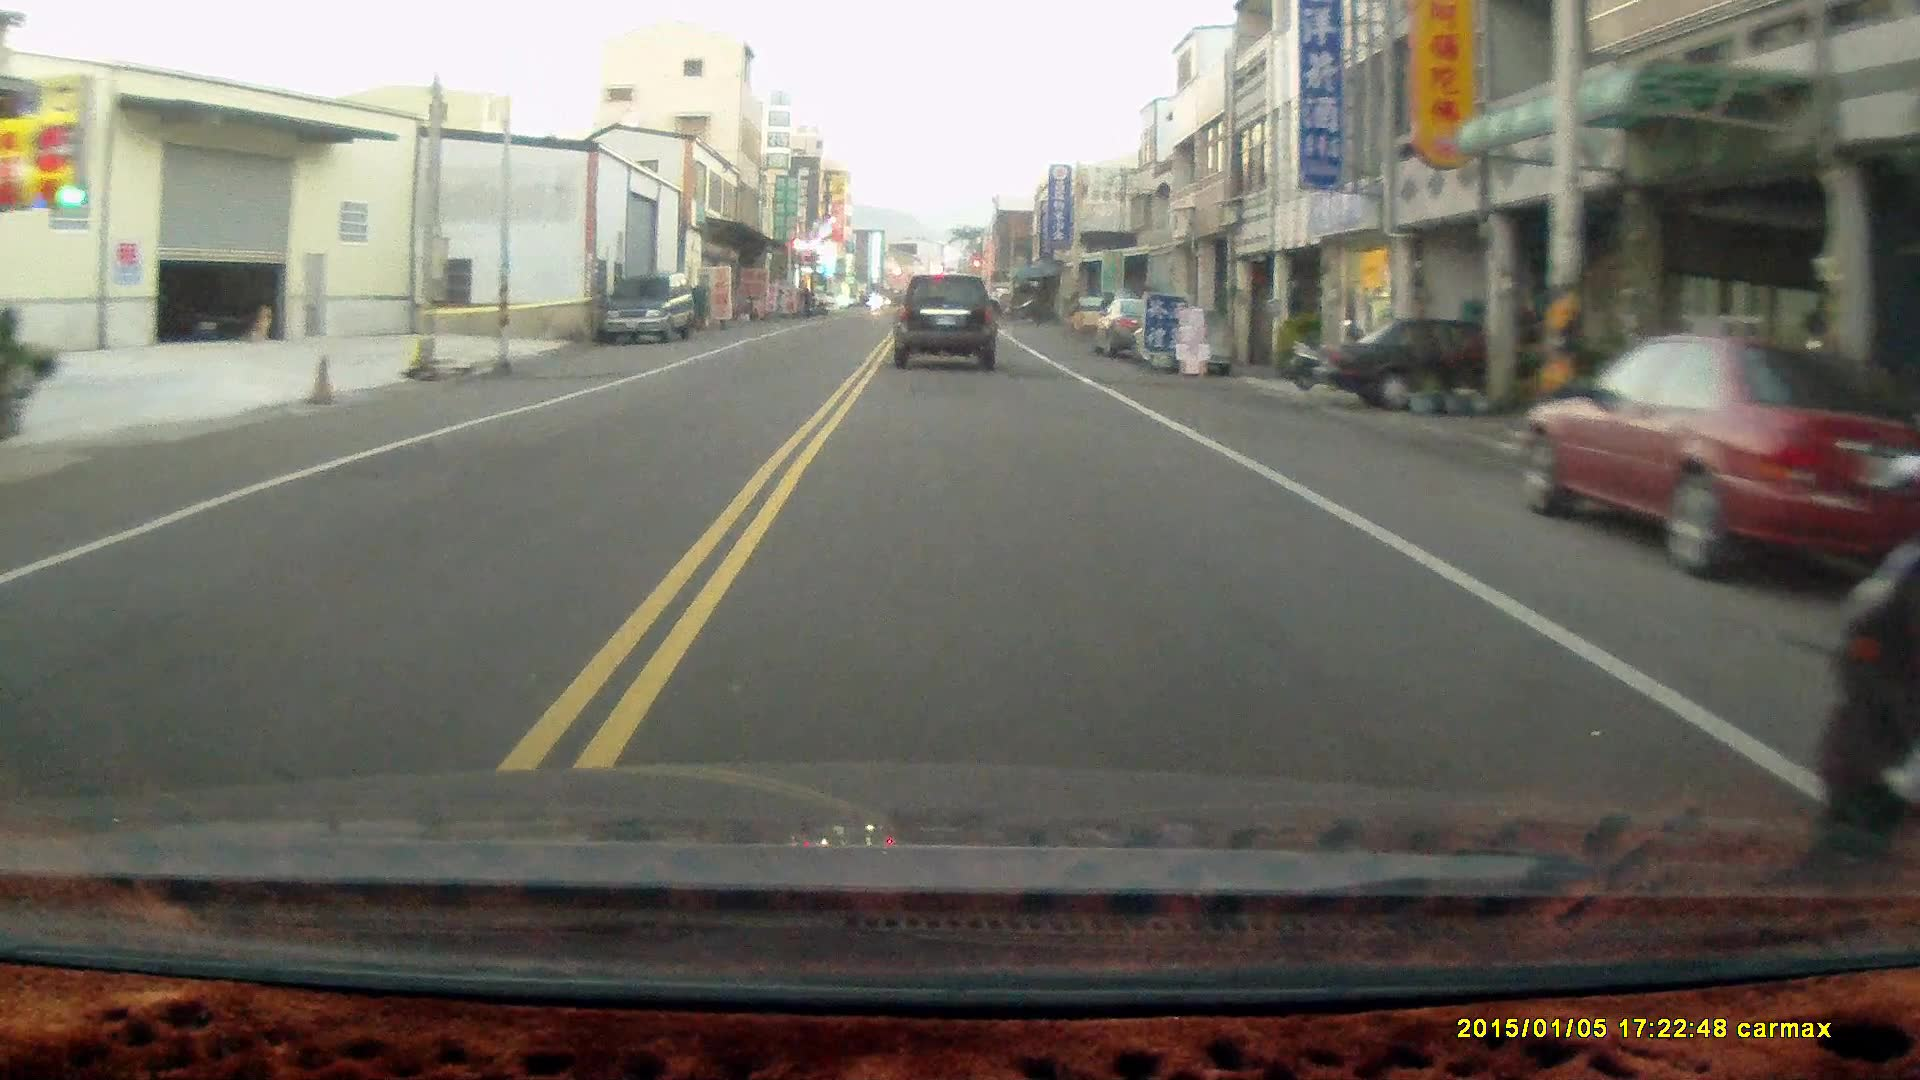vehicle: (1519, 334, 1920, 587), (1298, 313, 1585, 400), (890, 276, 1000, 376), (600, 272, 700, 351)
